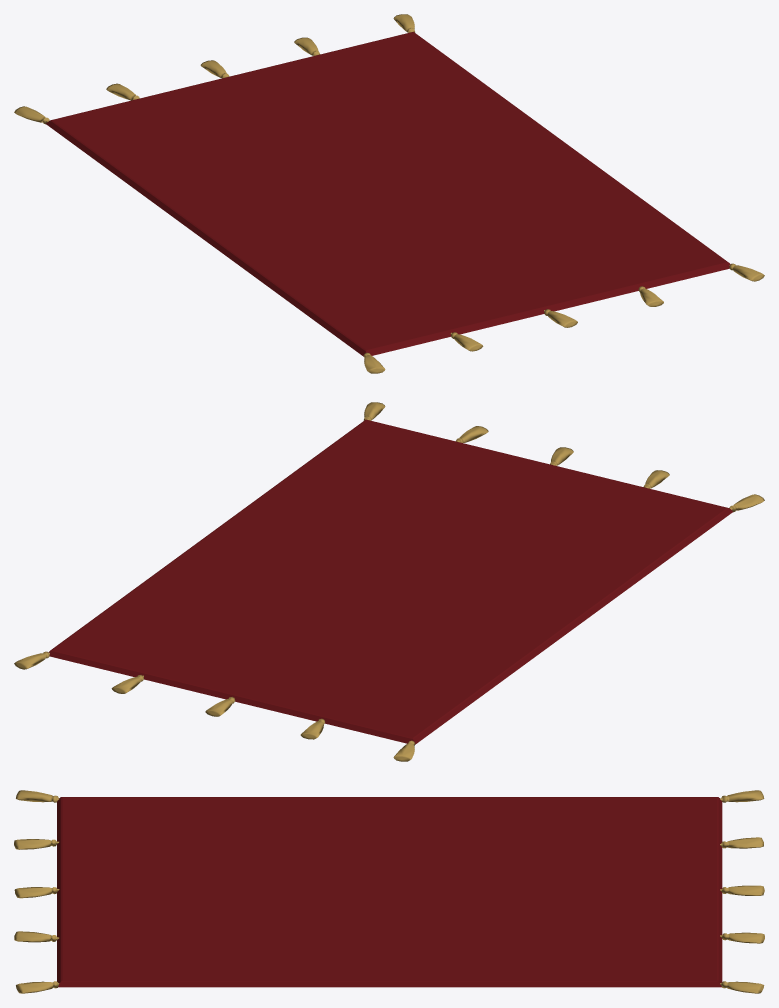
Rendered from MiscCarpetUV.fbx.
The picture shows the model from 3 angles, top to bottom: view 1: azimuth 30°, elevation 25°; view 2: azimuth 150°, elevation 25°; view 3: azimuth 270°, elevation 25°; orthographic projection. The views are drawn at different scales.
Parts seen in each view (by area): view 1: largeRug1; view 2: largeRug1; view 3: largeRug1.
Part boxes in pixels (box(x1,y1,x2,y2)): largeRug1: box(14, 14, 764, 373); largeRug1: box(14, 402, 764, 761); largeRug1: box(14, 790, 764, 993).
Size of the model in its own units: 430 by 7.43 by 677.
